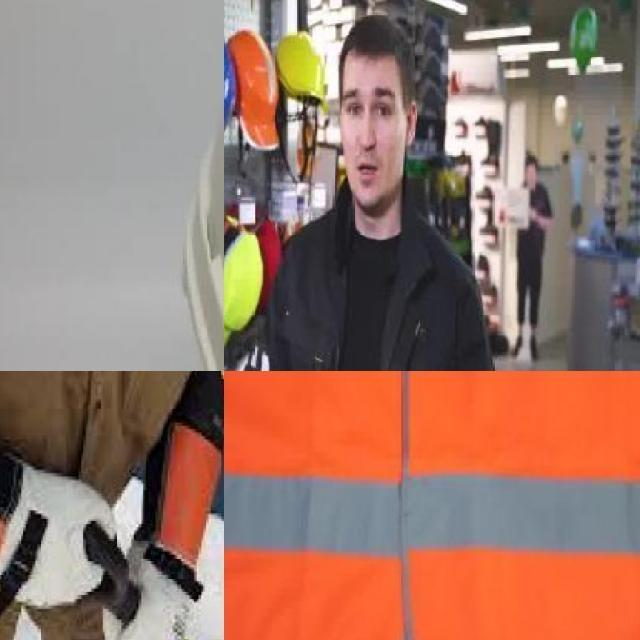apron: (0, 371, 123, 627), (109, 429, 220, 640)
